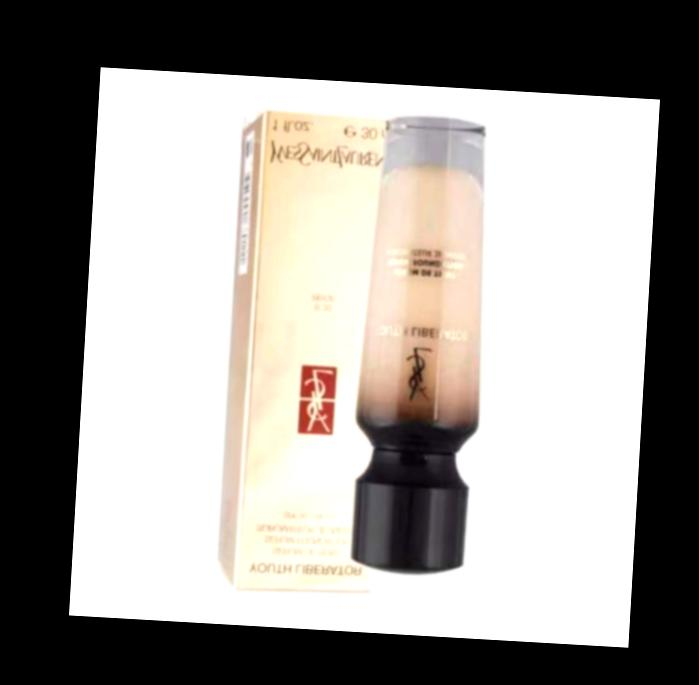cosmetic: (346, 114, 497, 569)
